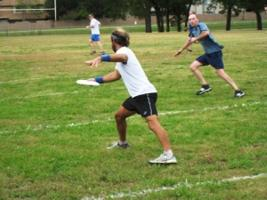person: (85, 28, 178, 165)
